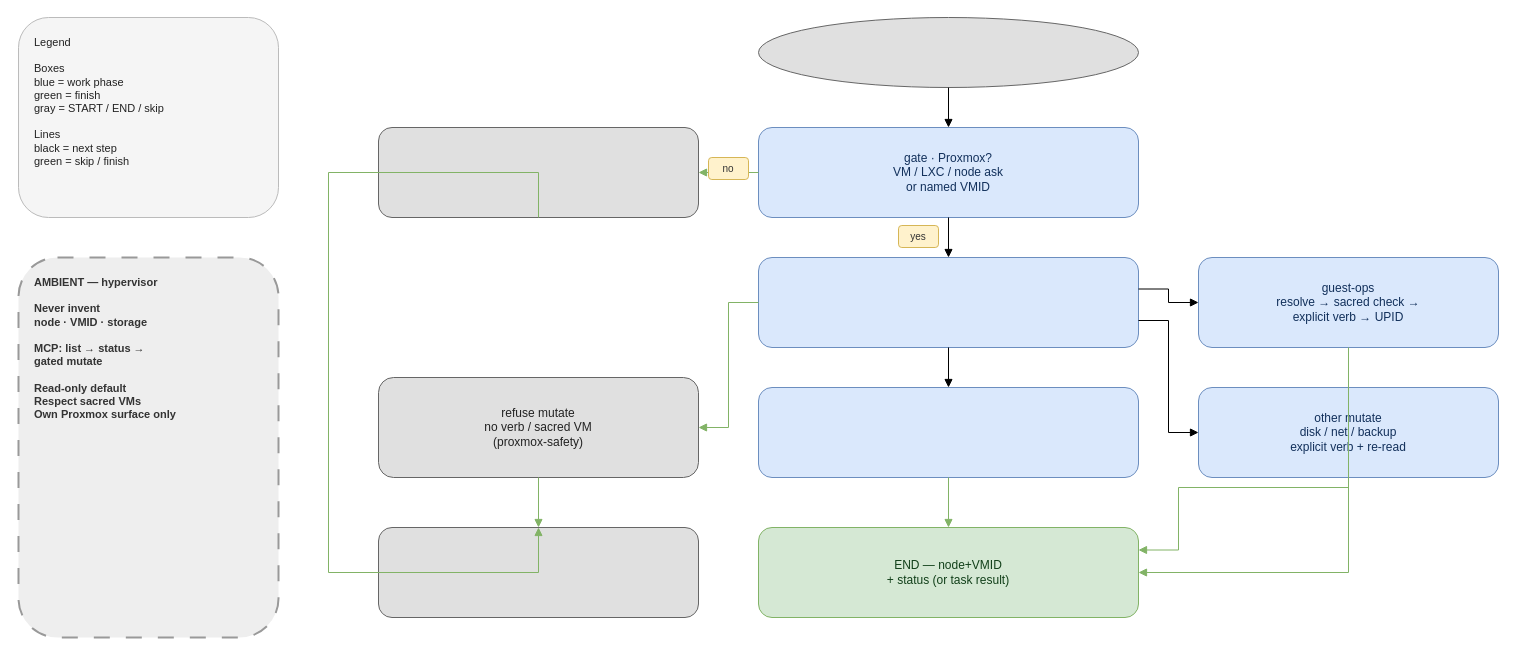
Image size: 1516x656. Some labels were removed from this diagram. The shapes that lost their labels are listed below. From the top down, each one's centre as x and y in pixels, then its label:
At (x=948, y=52): "START — user ask".
At (x=538, y=172): "skip — no Proxmox surface this turn".
At (x=948, y=302): "route · inventory vs power / clone / migrate vs other mutate".
At (x=948, y=432): "inventory nodes → VMs → status storage / RRD as needed".
At (x=538, y=572): "END — stay out".
